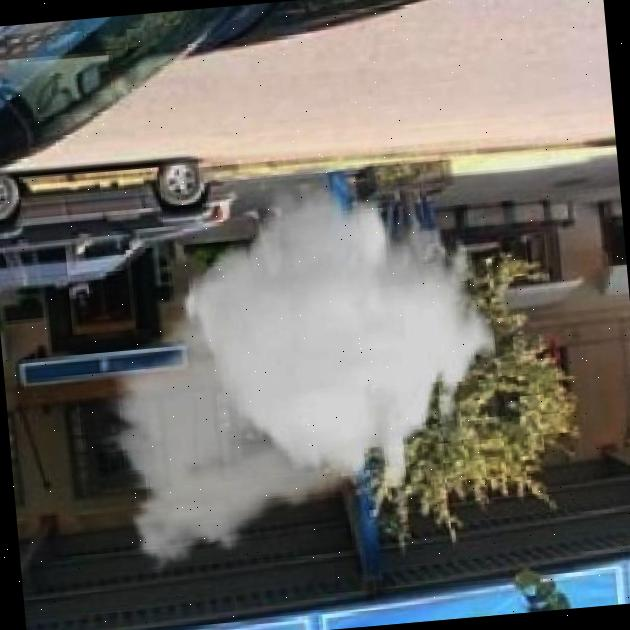smoke: (30, 154, 531, 559)
